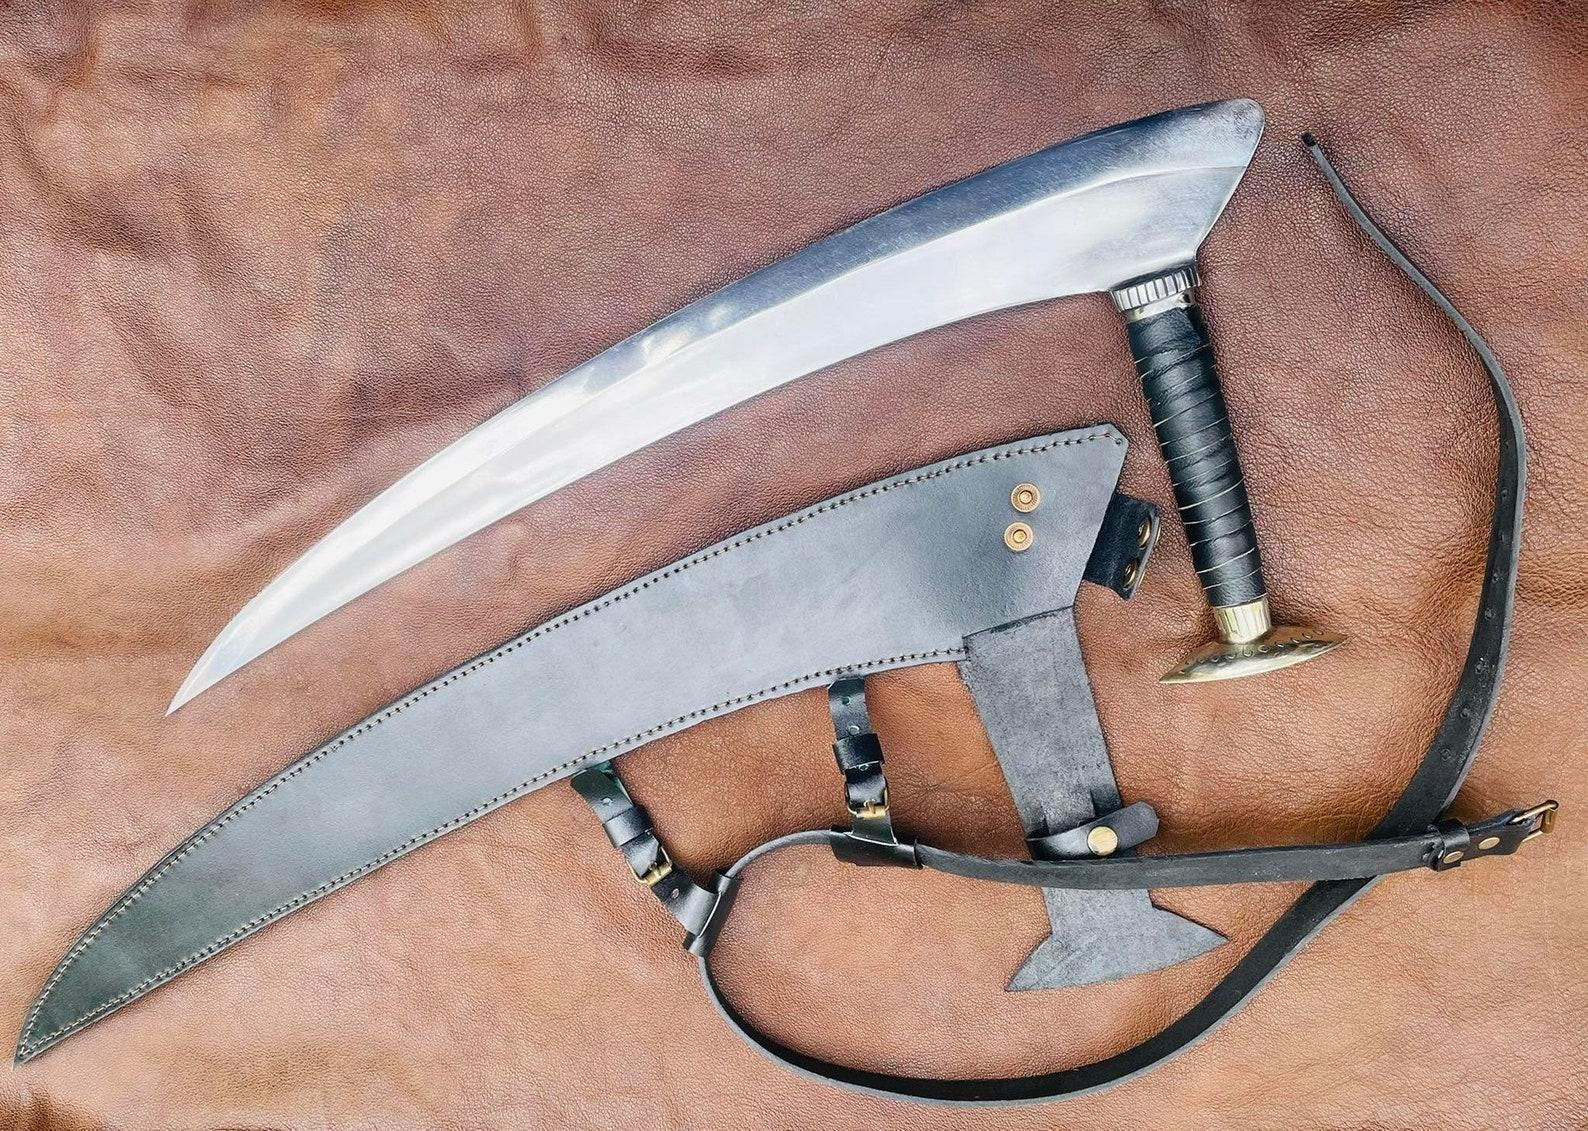facao: (131, 51, 1390, 738), (18, 390, 1177, 1083)
